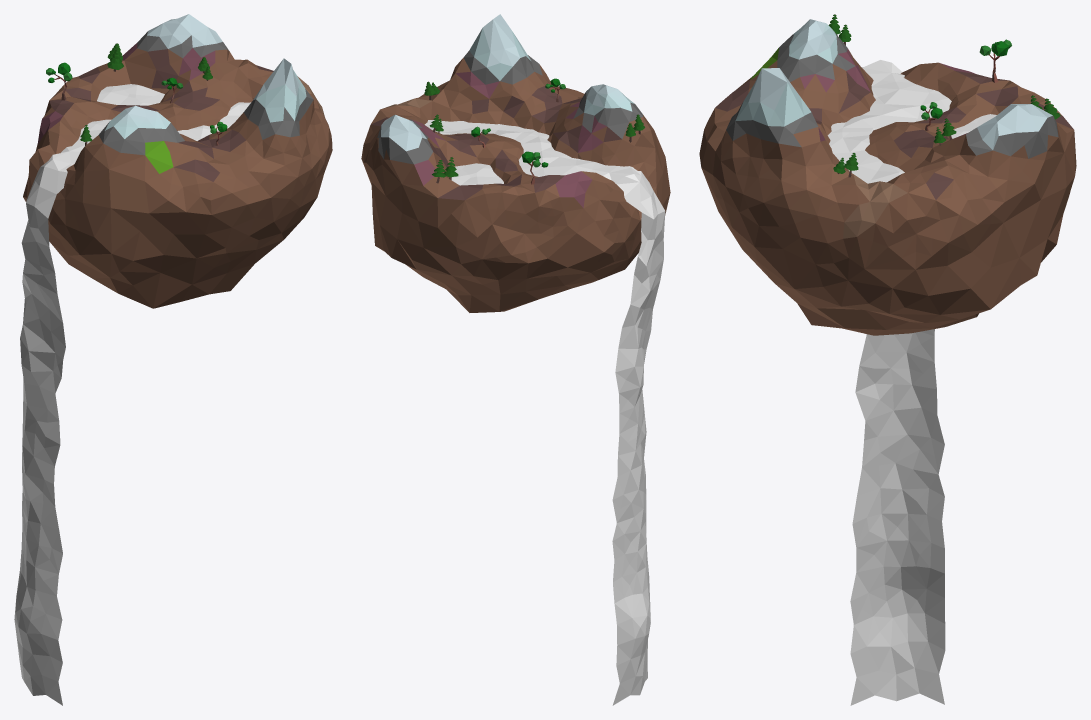
File: uploads_files_1873629_island.fbx
The picture shows the model from 3 angles, left to right: view 1: azimuth 30°, elevation 25°; view 2: azimuth 150°, elevation 25°; view 3: azimuth 270°, elevation 25°; orthographic projection. The views are drawn at different scales.
Visible parts, largest first — view 1: Icosphere, Plane; view 2: Icosphere, Plane; view 3: Icosphere, Plane.
Part boxes in pixels (box(x1,y1,x2,y2)): Icosphere: box(23, 14, 332, 308); Plane: box(14, 84, 250, 705); Icosphere: box(361, 14, 670, 312); Plane: box(424, 120, 665, 705); Icosphere: box(699, 19, 1076, 335); Plane: box(827, 60, 996, 705).
Bounding box in the file's own units: 1924 × 4235 × 2052.
